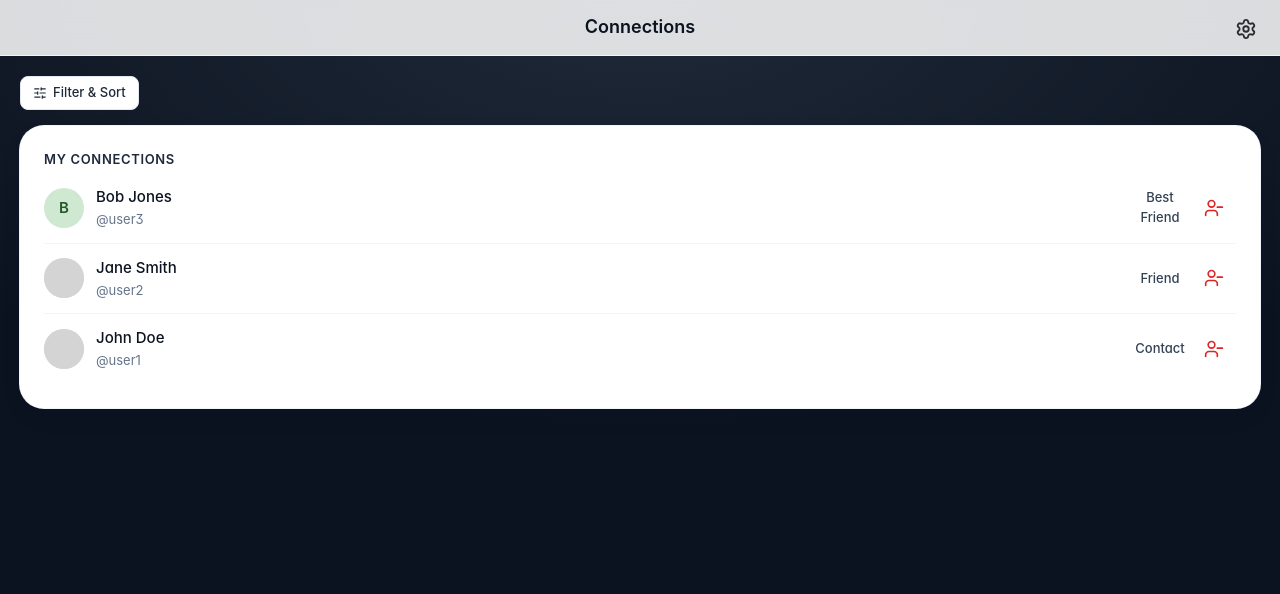
Test case: ConnectionsView › clears the search when the inline clear button is clicked
Expected: the text "John Doe" is shown, x1=96 y1=328 x2=164 y2=347
Click the button "Filter & Sort" at (79, 93), box x1=20 y1=76 x2=139 y2=110
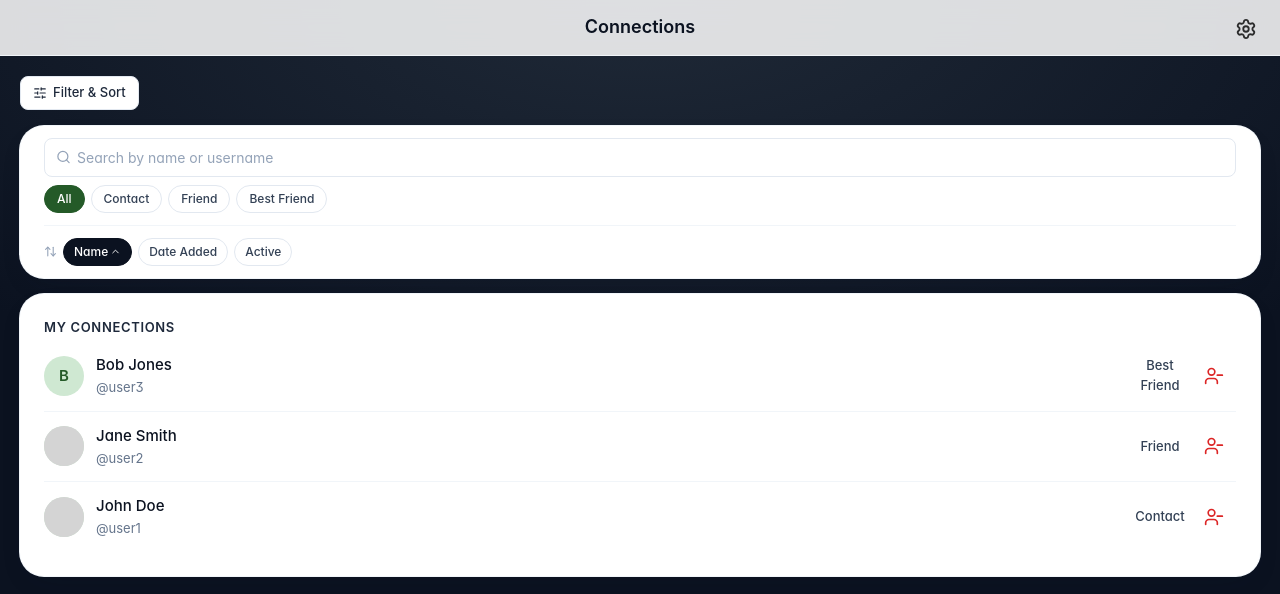
Type "john" into the search field with placeholder "Search by name or username" at (640, 157), box x1=44 y1=138 x2=1236 y2=176
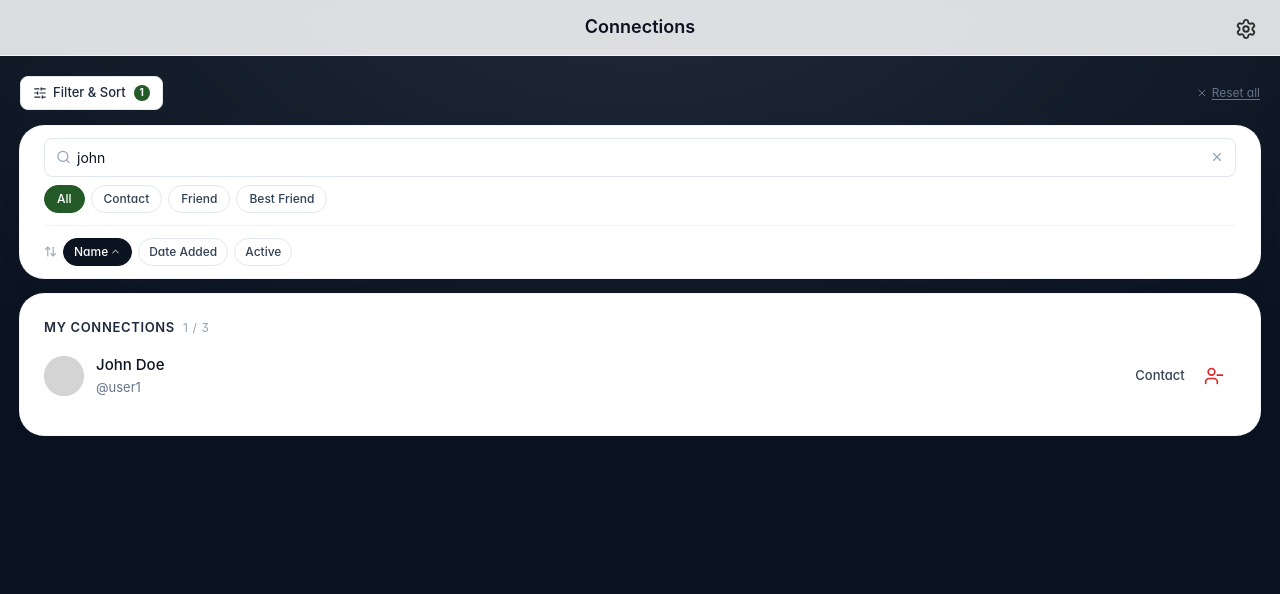
Expected: the link "Jane Smith" is gone
Click the button named "clear search" at (1217, 157), box x1=1206 y1=146 x2=1228 y2=168
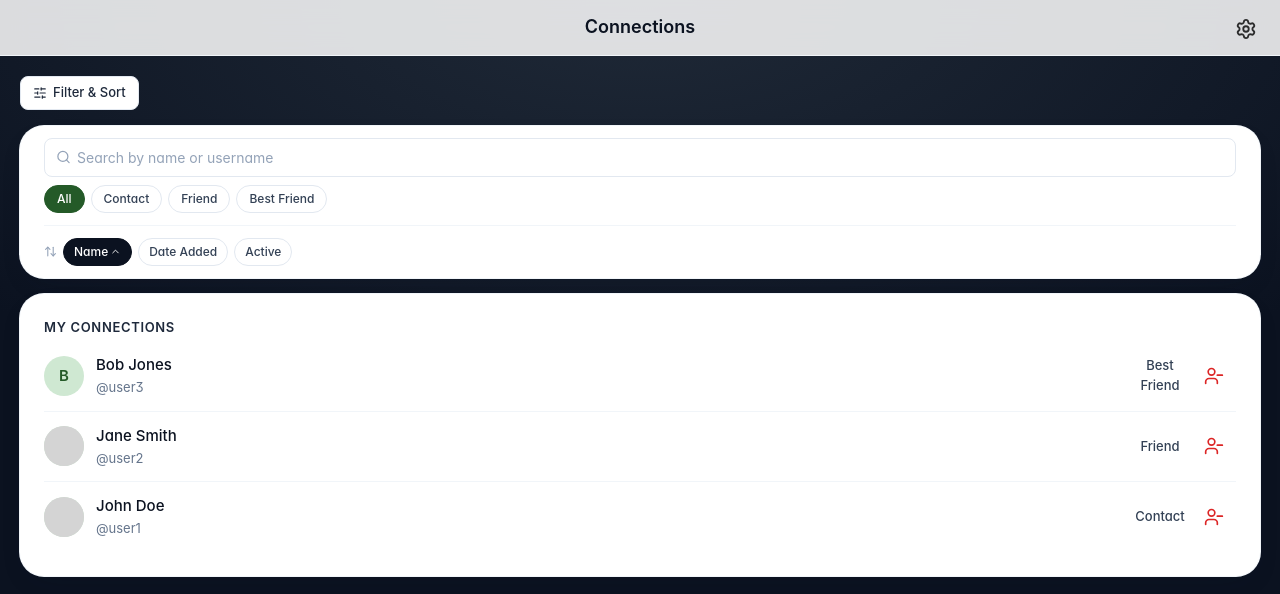
Expected: the text "Jane Smith" is shown, x1=96 y1=426 x2=177 y2=444
